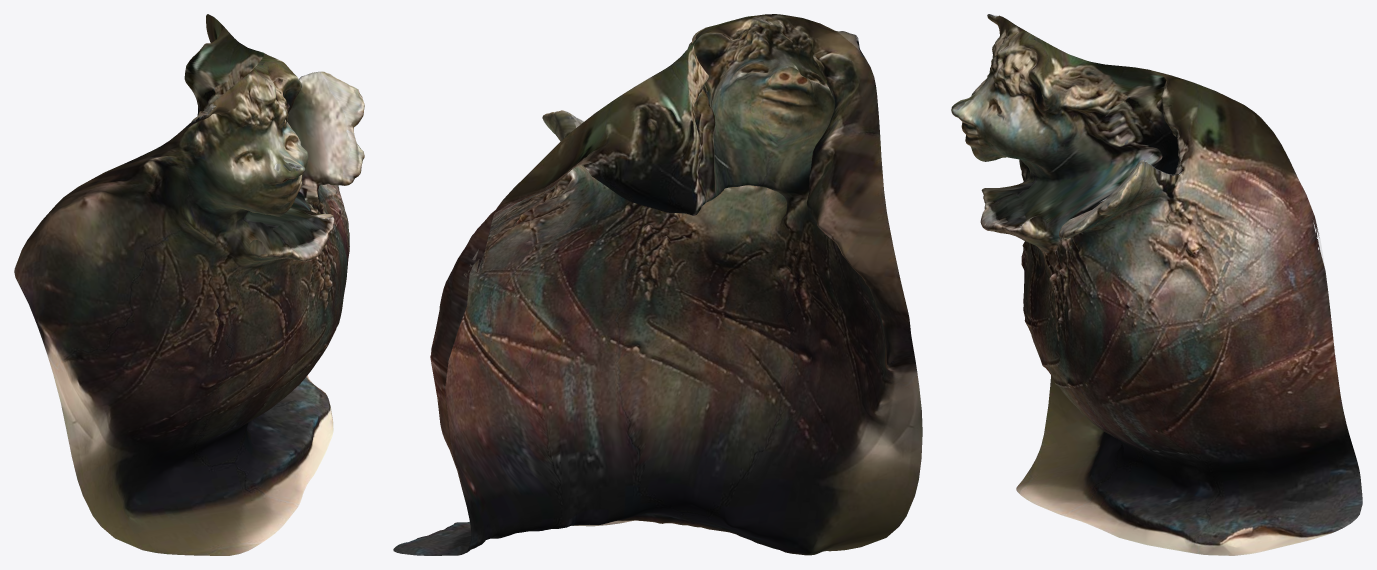
Rendered from knolletje.glb.
The picture shows the model from 3 angles, left to right: view 1: azimuth 30°, elevation 25°; view 2: azimuth 150°, elevation 25°; view 3: azimuth 270°, elevation 25°; orthographic projection. The views are drawn at different scales.
Visible parts, largest first — view 1: knolletje; view 2: knolletje; view 3: knolletje.
Boxes of the visible parts, x1,y1,x2,y2 form: knolletje: (14, 14, 364, 555); knolletje: (393, 14, 922, 555); knolletje: (951, 14, 1362, 555).
Size of the model in its own units: 15.66 by 19.17 by 15.32.
2 materials, 1 textured.
